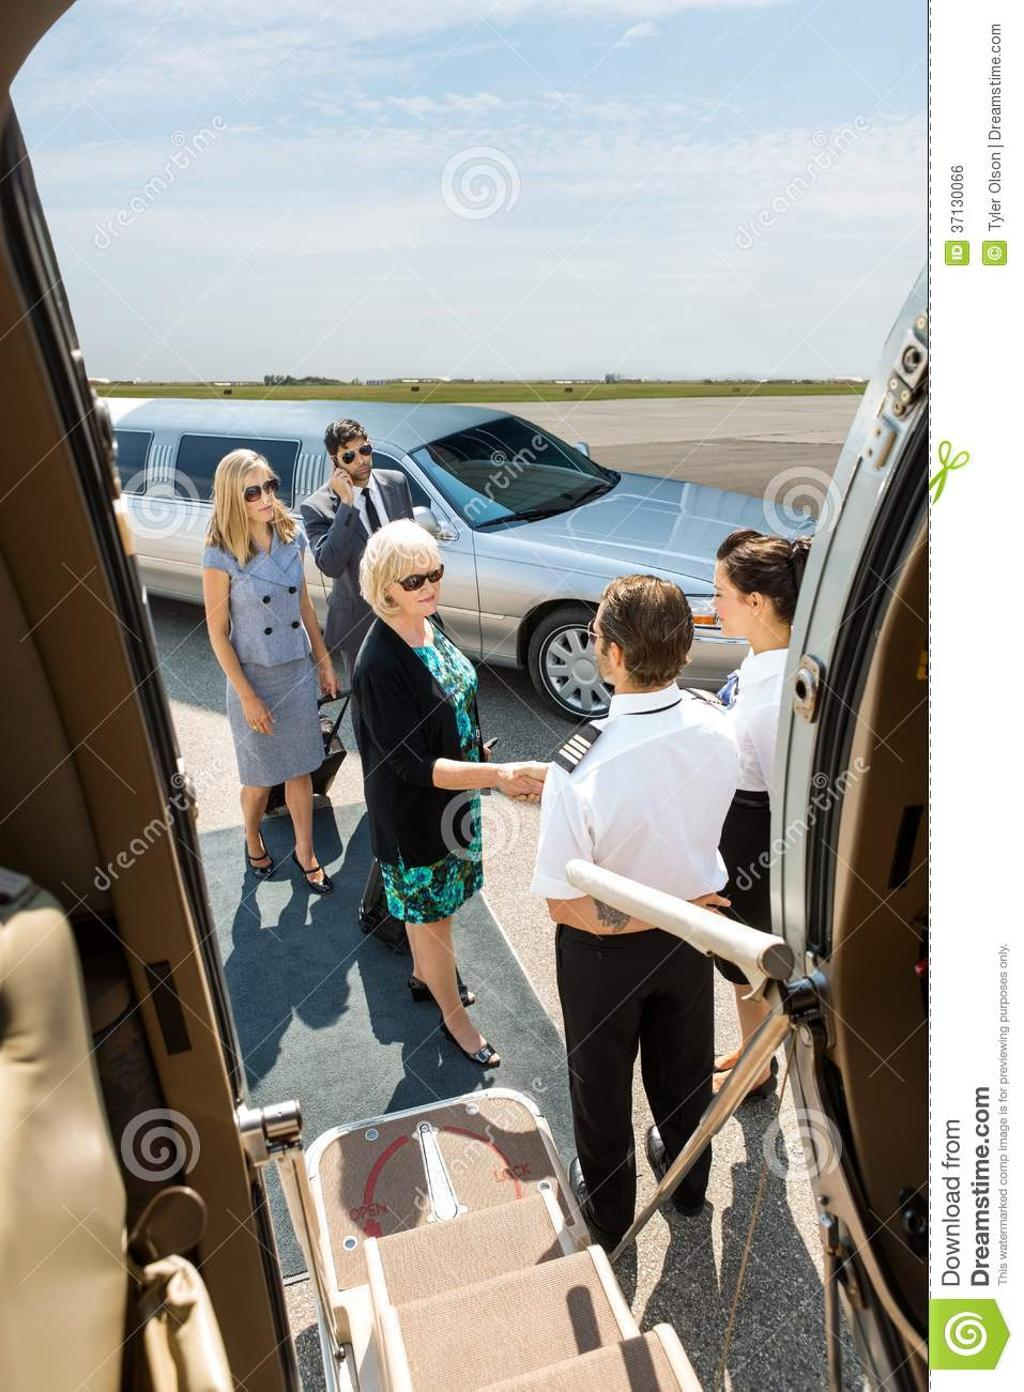face: (710, 570, 763, 634), (393, 563, 442, 614), (593, 601, 623, 682), (239, 469, 275, 521), (335, 439, 372, 480)
